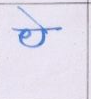e_matra: (18, 6, 45, 28)
